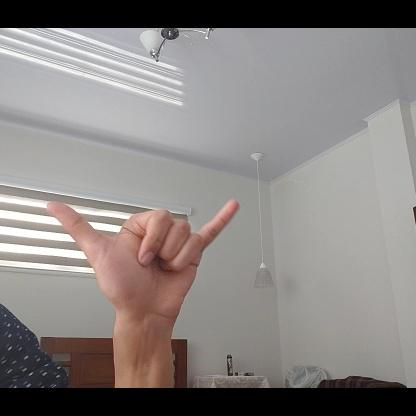Y: (44, 195, 243, 324)
